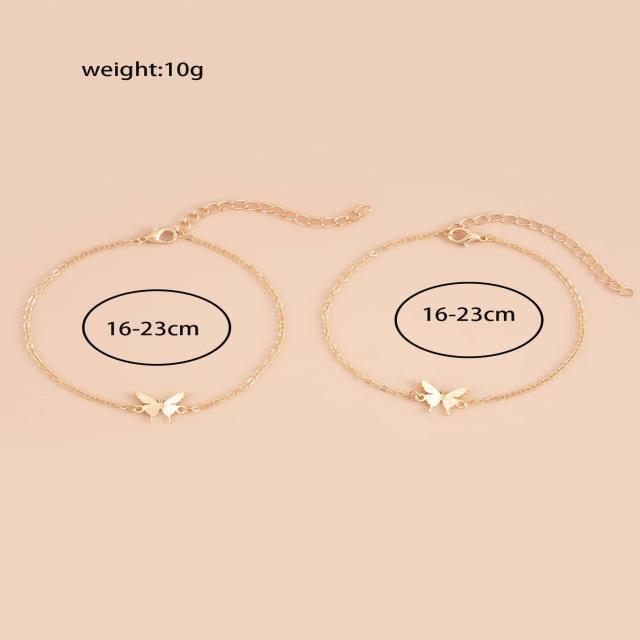bracelet: (3, 121, 314, 486), (309, 124, 640, 458)
